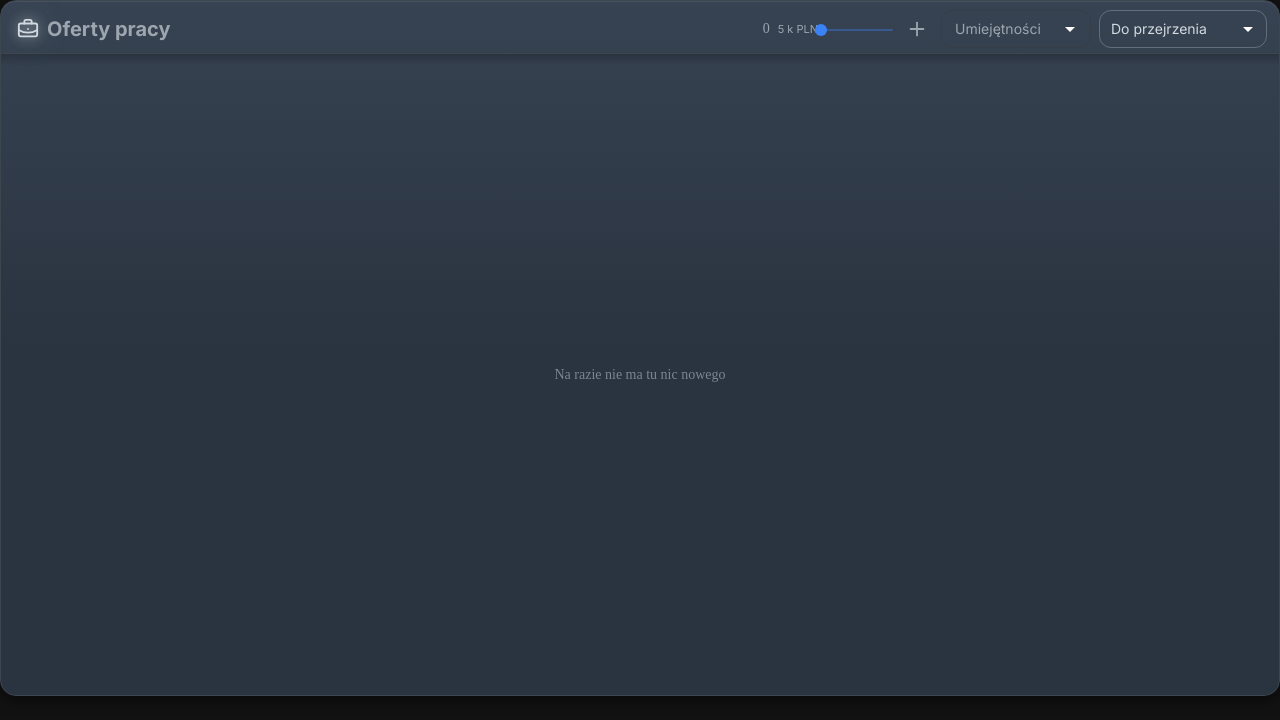
Scenario: JobAds › shows applied filter toggle only on archived view
Press the mouse on the dropdown named "Filtr" at (1159,28), box [1111,20,1207,37]
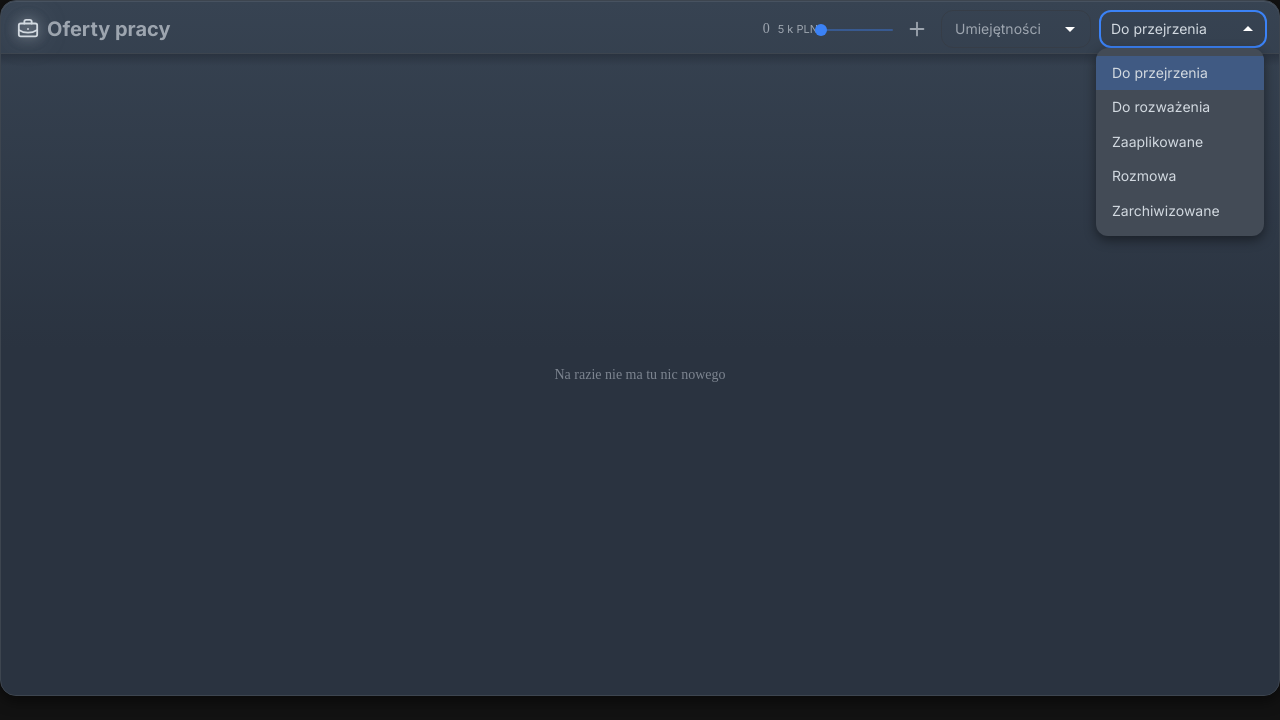
Click the option "Zarchiwizowane" at (1166,210), box [1112,202,1220,219]
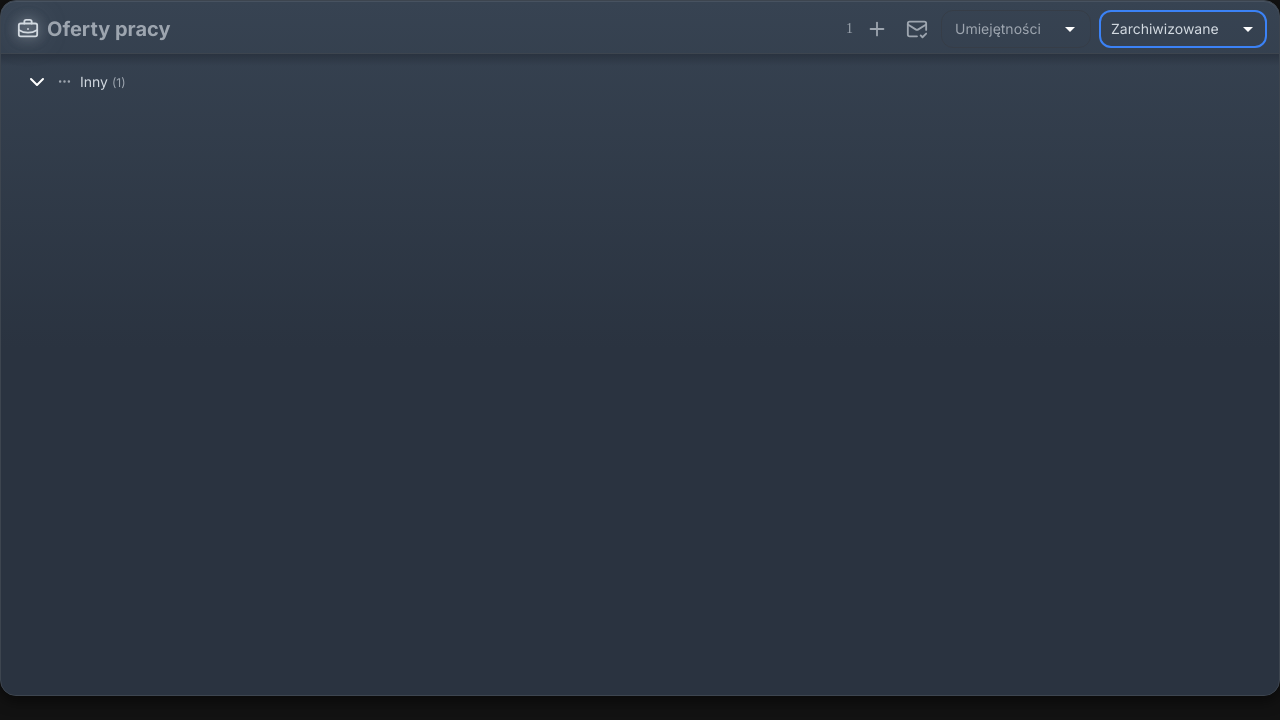
Check: the button named "Pokaż tylko zaaplikowane" is shown, box [901,13,933,45]
